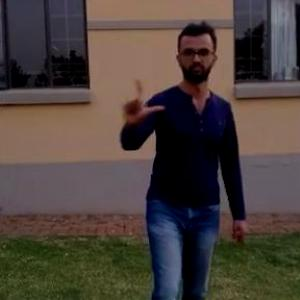land_hand: (123, 74, 176, 135)
